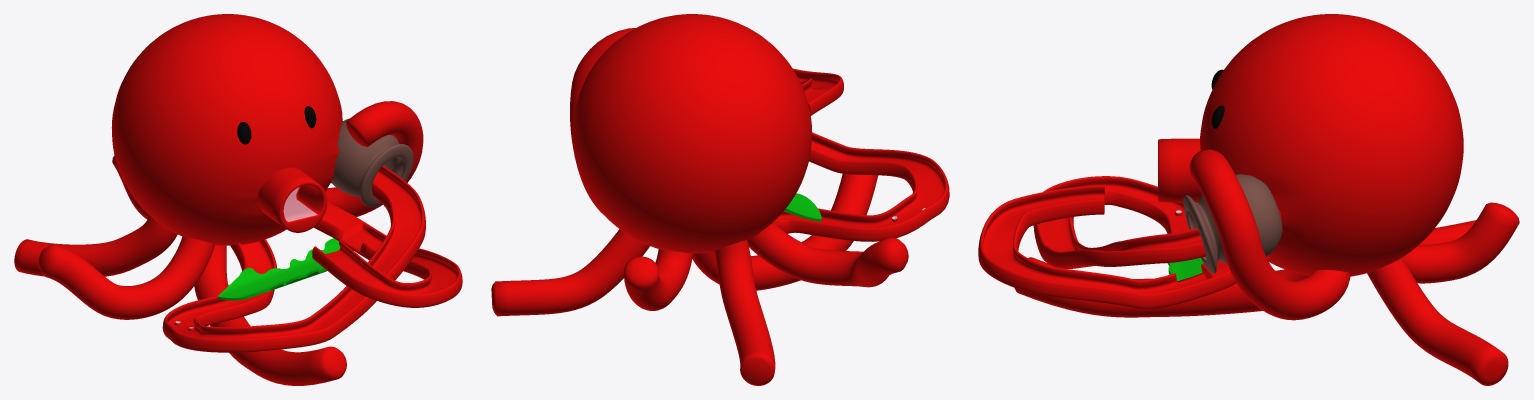
The model's file is miscart_octpas_1.1.fbx.
The picture shows the model from 3 angles, left to right: view 1: azimuth 30°, elevation 25°; view 2: azimuth 150°, elevation 25°; view 3: azimuth 270°, elevation 25°; orthographic projection. The views are drawn at different scales.
Visible parts, largest first — view 1: tako_head, leg_01, leg_02, leg_03, leg_04, leg_05, tsubo, leg_08, tako_mouse, wakame, tako_eye; view 2: tako_head, leg_01, leg_03, leg_07, leg_05, leg_04, leg_06, leg_02, leg_08, wakame; view 3: tako_head, leg_02, leg_08, leg_01, leg_07, leg_06, leg_04, tsubo, tako_mouse, leg_05, wakame.
Part boxes in pixels (<box>): tako_head: <box>111,14,342,245</box>; leg_01: <box>162,165,425,352</box>; leg_02: <box>312,202,462,307</box>; leg_03: <box>38,236,214,319</box>; leg_04: <box>194,245,346,385</box>; leg_05: <box>14,215,177,276</box>; tsubo: <box>331,118,413,207</box>; leg_08: <box>325,101,423,216</box>; tako_mouse: <box>258,167,331,232</box>; wakame: <box>217,238,340,300</box>; tako_eye: <box>237,106,316,144</box>; tako_head: <box>572,14,811,253</box>; leg_01: <box>773,132,949,241</box>; leg_03: <box>747,222,908,287</box>; leg_07: <box>491,229,649,316</box>; leg_05: <box>714,240,775,385</box>; leg_04: <box>692,173,878,290</box>; leg_06: <box>624,249,692,310</box>; leg_02: <box>793,68,843,115</box>; leg_08: <box>570,28,635,216</box>; wakame: <box>784,193,821,221</box>; tako_head: <box>1199,14,1463,276</box>; leg_02: <box>978,185,1270,309</box>; leg_08: <box>1189,149,1350,320</box>; leg_01: <box>1033,176,1205,268</box>; leg_07: <box>1367,258,1508,385</box>; leg_06: <box>1402,202,1519,283</box>; leg_04: <box>1014,257,1308,317</box>; tsubo: <box>1183,174,1282,273</box>; tako_mouse: <box>1158,138,1281,218</box>; leg_05: <box>1419,220,1476,244</box>; wakame: <box>1167,258,1203,280</box>.
Size of the model in its own units: 2995 by 2265 by 3522.
